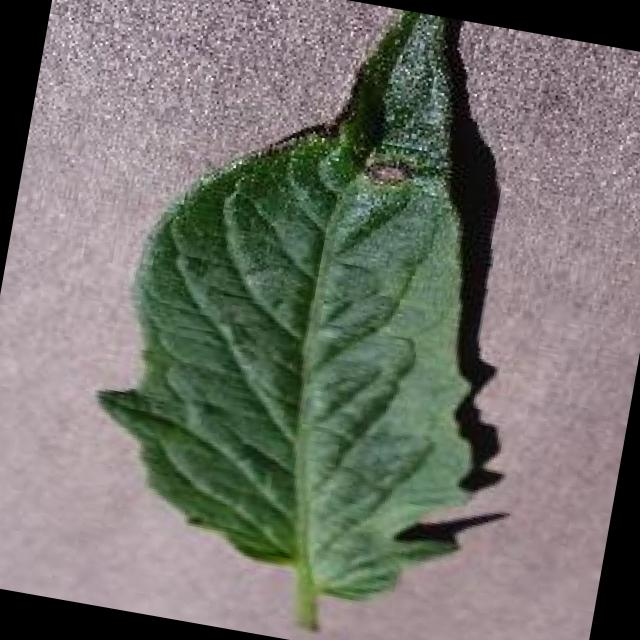Tomato_Early_Blight: (137, 0, 505, 322)
